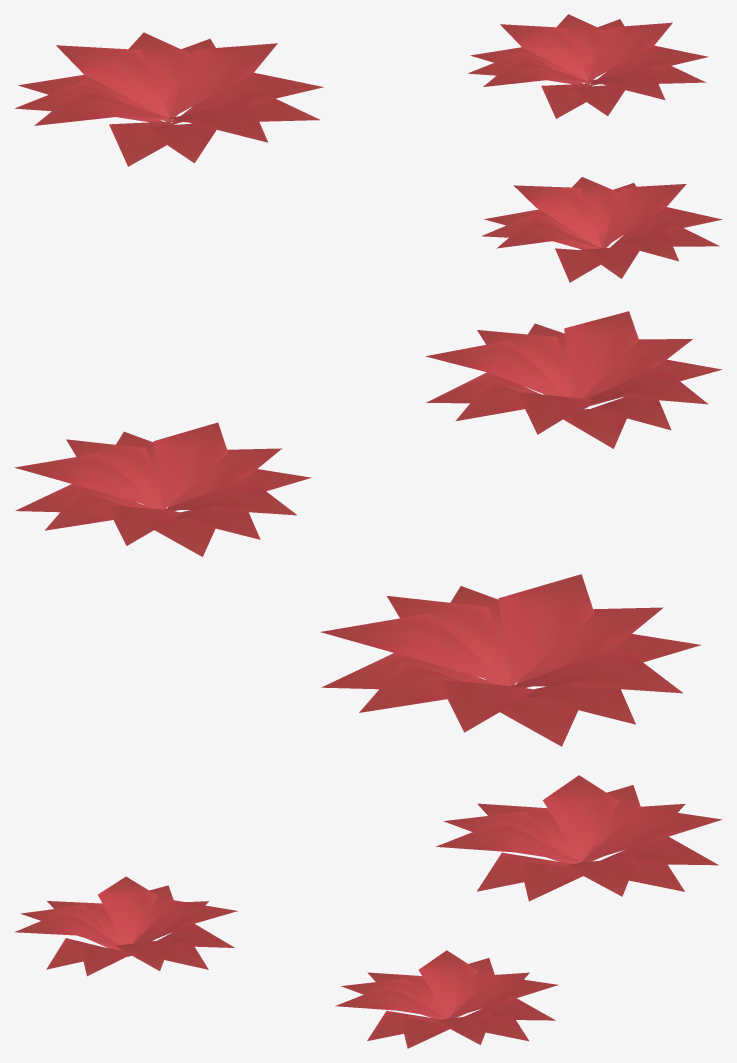
The model's file is PinkFlower.fbx.
The picture shows the model from 3 angles, top to bottom: view 1: azimuth 30°, elevation 25°; view 2: azimuth 150°, elevation 25°; view 3: azimuth 270°, elevation 25°; orthographic projection. The views are drawn at different scales.
Parts seen in each view (by area): view 1: PinkFlower; view 2: PinkFlower; view 3: PinkFlower.
Boxes of the visible parts, x1,y1,x2,y2 form: PinkFlower: (14,14,722,282); PinkFlower: (14,311,722,746); PinkFlower: (14,775,722,1048).
Bounding box in the file's own units: 38.87 × 2.58 × 43.32.
